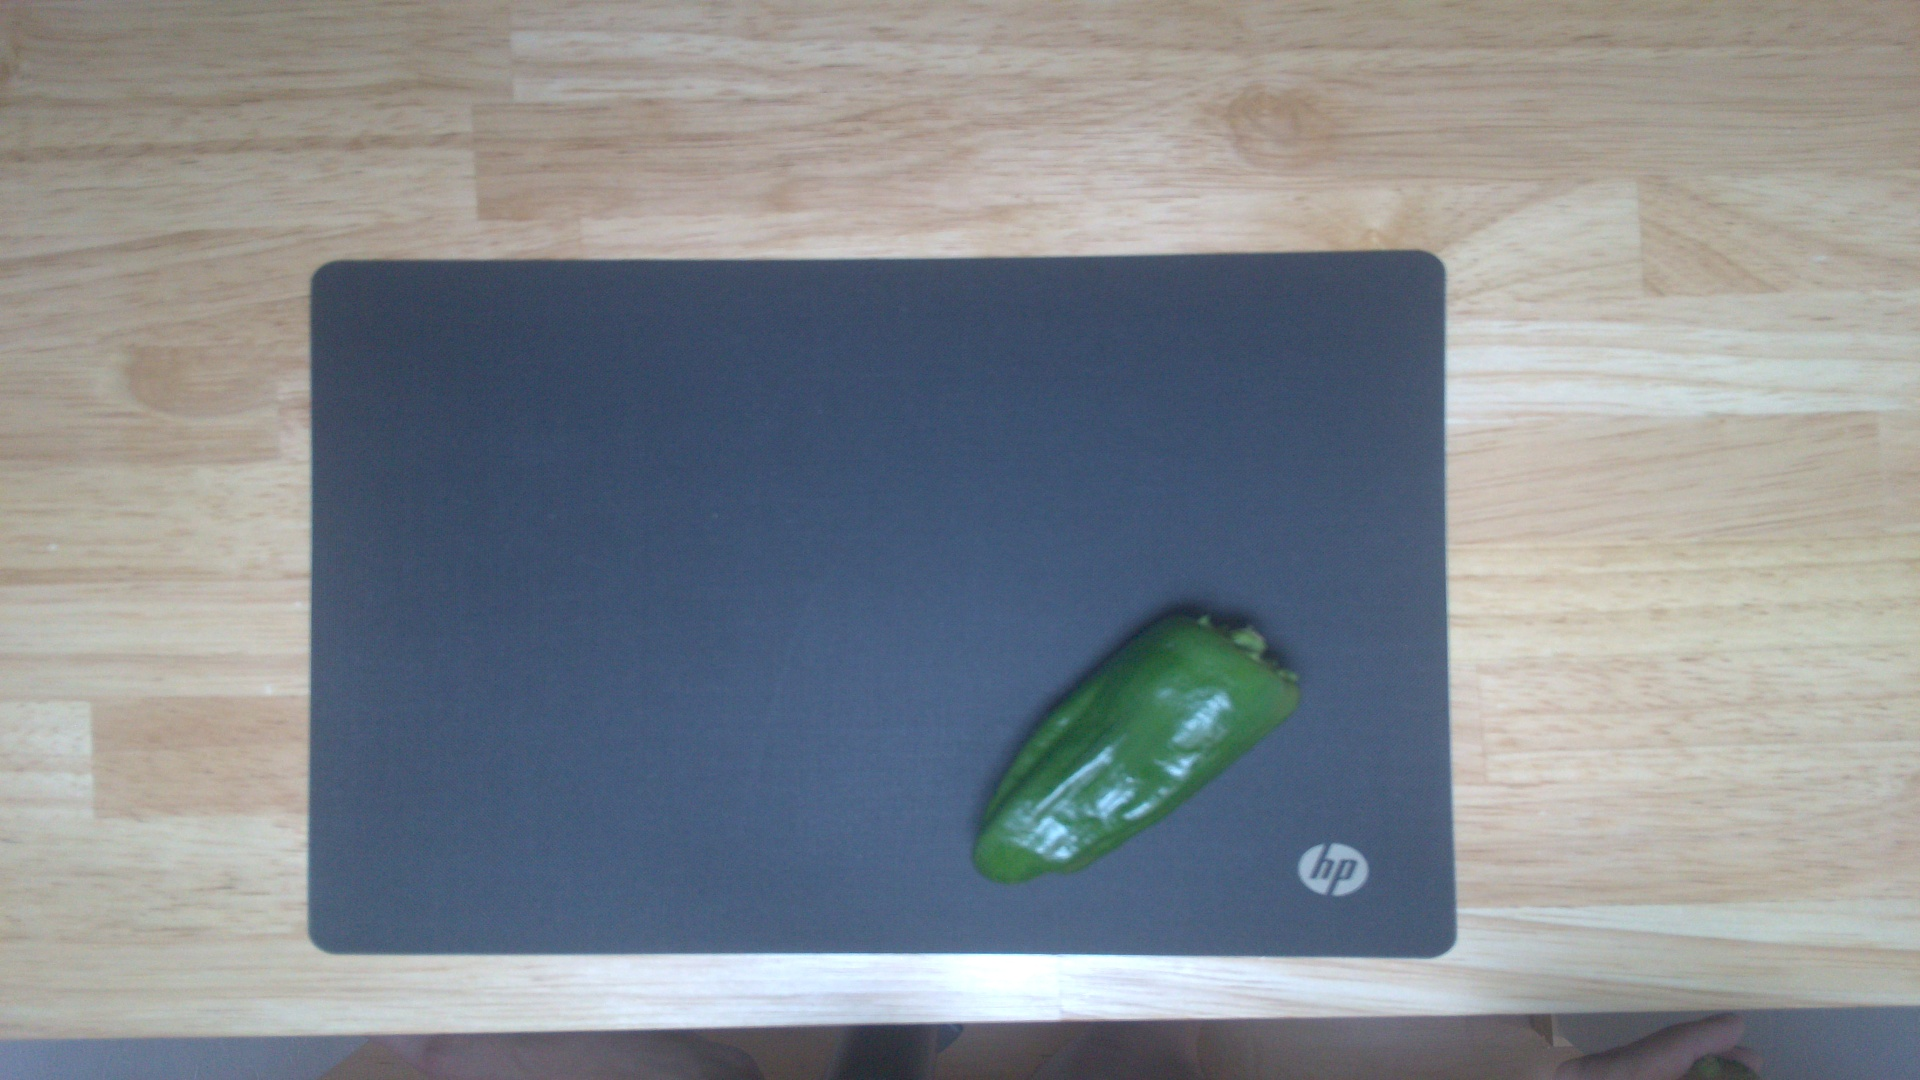Piman: (971, 603, 1308, 889)
